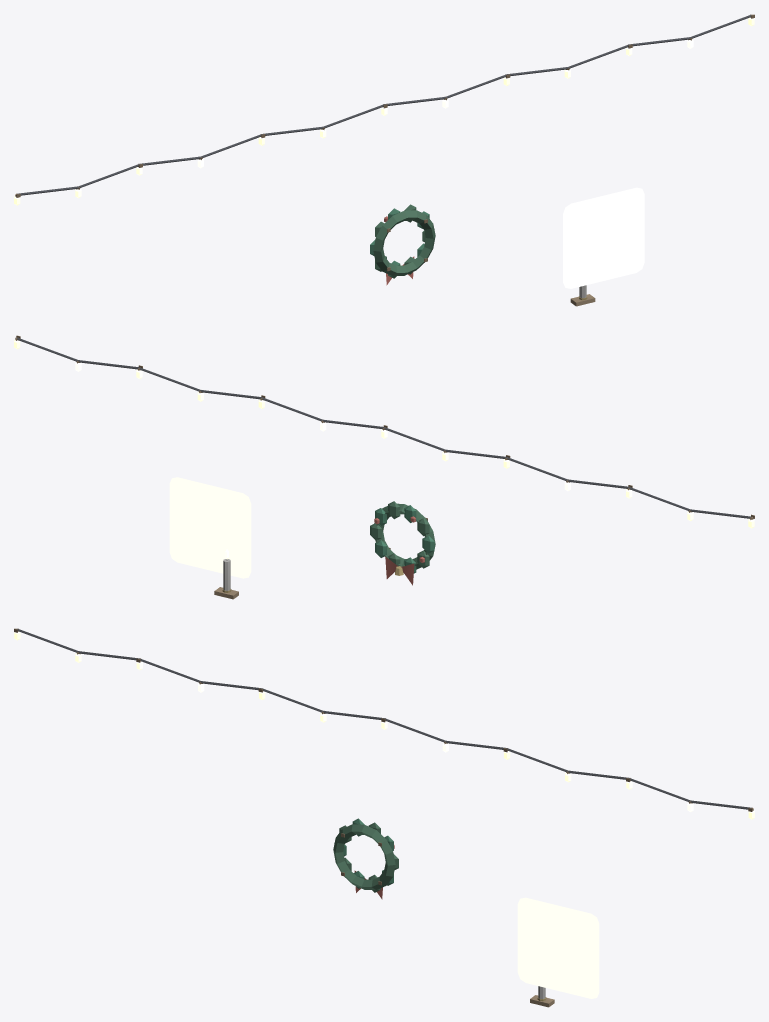
Rendered from house_dress_hut.glb.
3 views of the same model, one above another, from view 1: azimuth 30°, elevation 25°; view 2: azimuth 150°, elevation 25°; view 3: azimuth 330°, elevation 25° (orthographic).
Bounding box in the file's own units: 5.08 × 1.49 × 0.2957.
